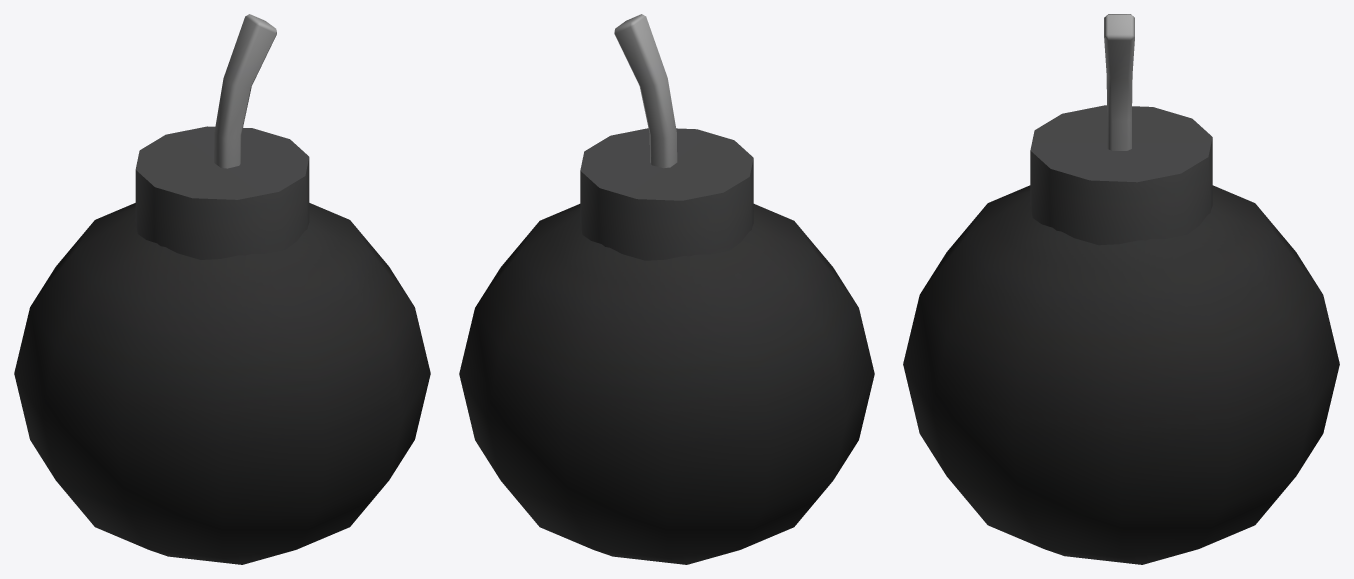
File: bomb_001.glb
3 views of the same model, side by side, from view 1: azimuth 30°, elevation 25°; view 2: azimuth 150°, elevation 25°; view 3: azimuth 270°, elevation 25° (orthographic). The views are drawn at different scales.
Parts seen in each view (by area): view 1: bomb_001; view 2: bomb_001; view 3: bomb_001.
Part boxes in pixels (x1,y1,x2,y2): bomb_001: (14, 14, 430, 564); bomb_001: (459, 14, 874, 564); bomb_001: (903, 14, 1339, 564).
Bounding box in the file's own units: 0.8124 × 1.12 × 0.8124.
1 material, 1 textured.
